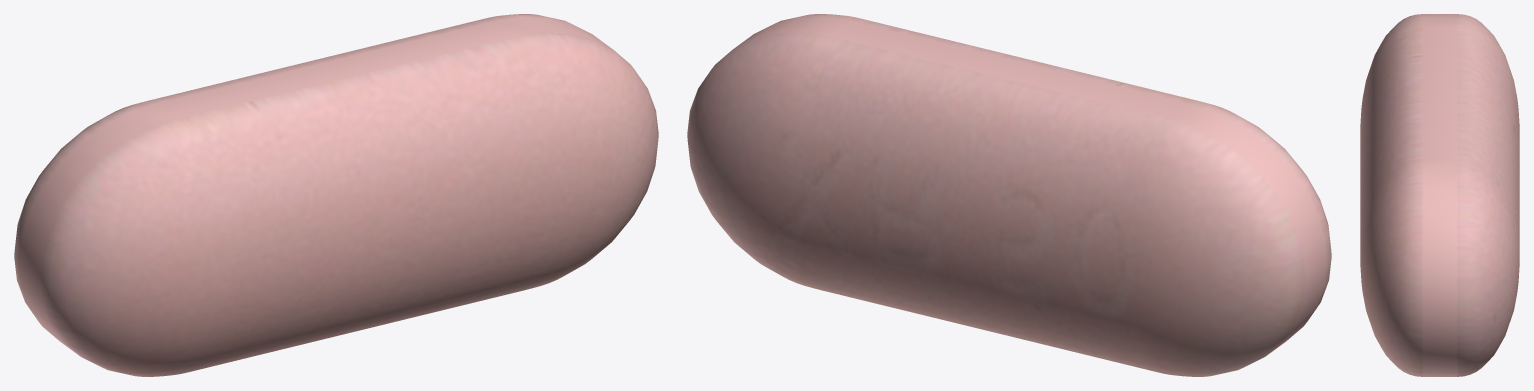
Rendered from 20140327GOPHDRGPT33137.fbx.
3 renders of one model, left to right at view 1: azimuth 30°, elevation 25°; view 2: azimuth 150°, elevation 25°; view 3: azimuth 270°, elevation 25°, orthographic. The views are drawn at different scales.
Parts seen in each view (by area): view 1: 球體.016; view 2: 球體.016; view 3: 球體.016.
Boxes of the visible parts, x1,y1,x2,y2 form: 球體.016: (14,14,658,376); 球體.016: (687,14,1331,376); 球體.016: (1360,14,1519,376).
Bounding box in the file's own units: 1.66 × 0.6465 × 0.4601.
Materials: 1 (1 with a texture image).
